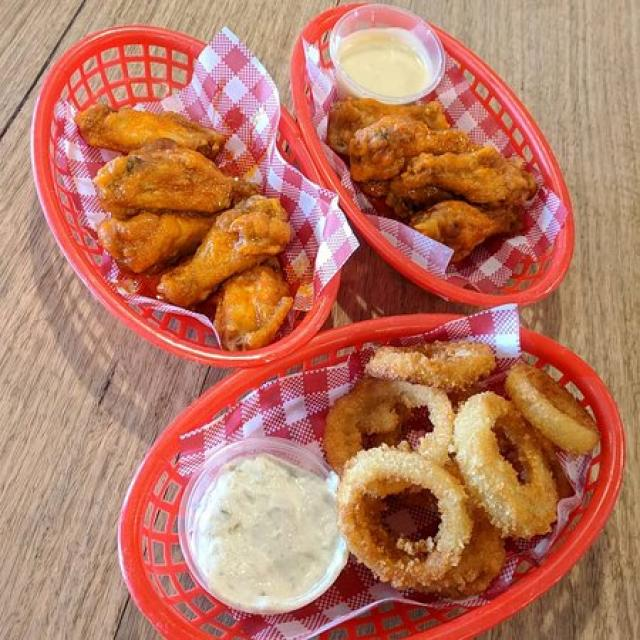Chicken Wings: (65, 50, 568, 347)
Onion Rings: (312, 348, 614, 603)
